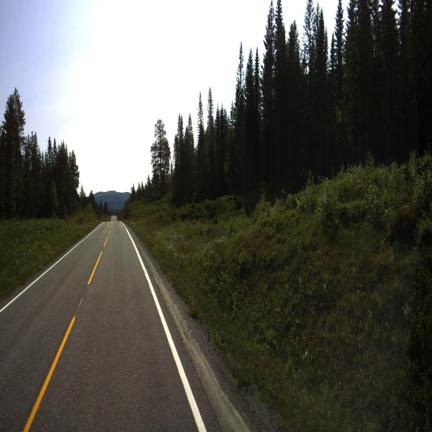Road: (0, 217, 218, 430)
